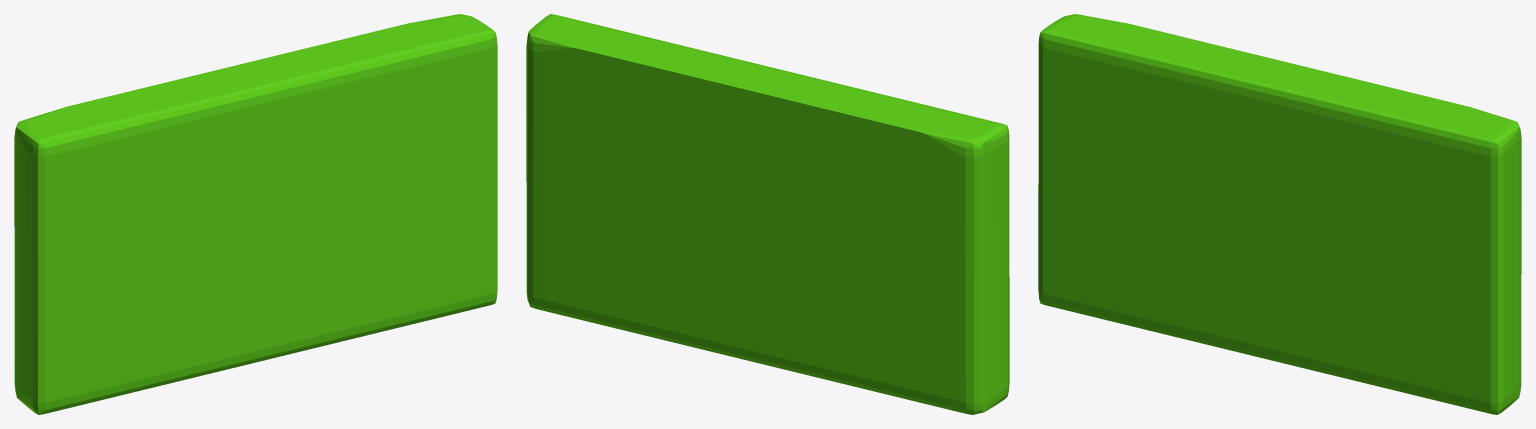
The model's file is pelvis_part_17.obj.
3 views of the same model, side by side, from view 1: azimuth 30°, elevation 25°; view 2: azimuth 150°, elevation 25°; view 3: azimuth 330°, elevation 25° (orthographic).
Bounding box in the file's own units: 0.1403 × 0.0792 × 0.0167.
